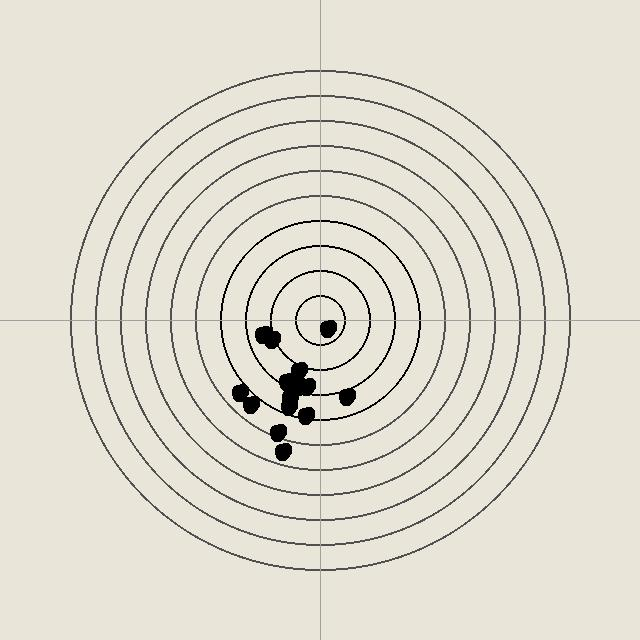good_group: (288, 360, 308, 380), (229, 382, 249, 402), (252, 324, 272, 344), (279, 387, 299, 407), (276, 371, 296, 391), (240, 394, 260, 414), (267, 422, 287, 442), (278, 396, 298, 416), (296, 376, 316, 396), (336, 386, 356, 406), (261, 329, 281, 349), (317, 318, 337, 338), (295, 405, 315, 425), (272, 441, 292, 461), (288, 376, 308, 396)
